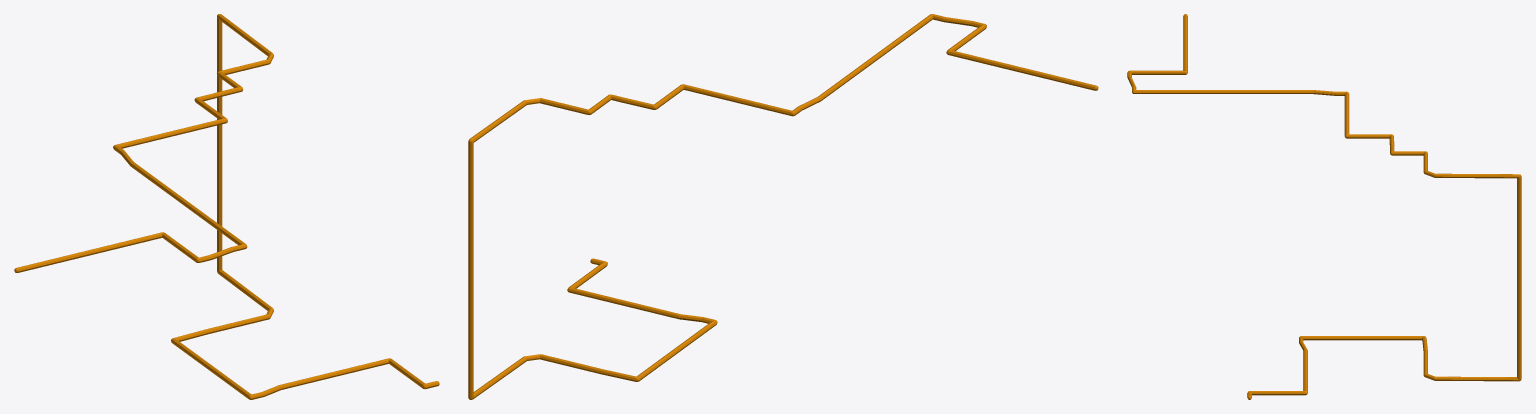
3 views of the same model, side by side, from view 1: azimuth 30°, elevation 25°; view 2: azimuth 150°, elevation 25°; view 3: azimuth 270°, elevation 25° (orthographic). The views are drawn at different scales.
Size of the model in its own units: 1910 by 1020 by 1760.
